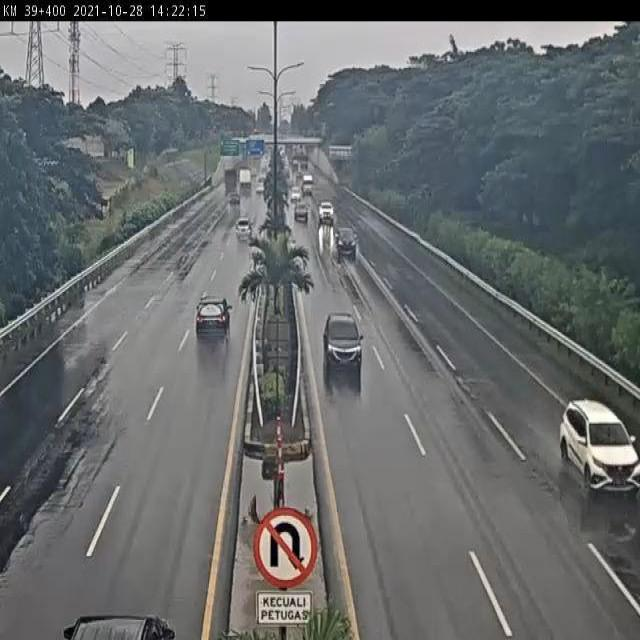car: (559, 397, 640, 496), (319, 309, 363, 368), (192, 291, 236, 348), (330, 224, 358, 259), (233, 218, 254, 242)
